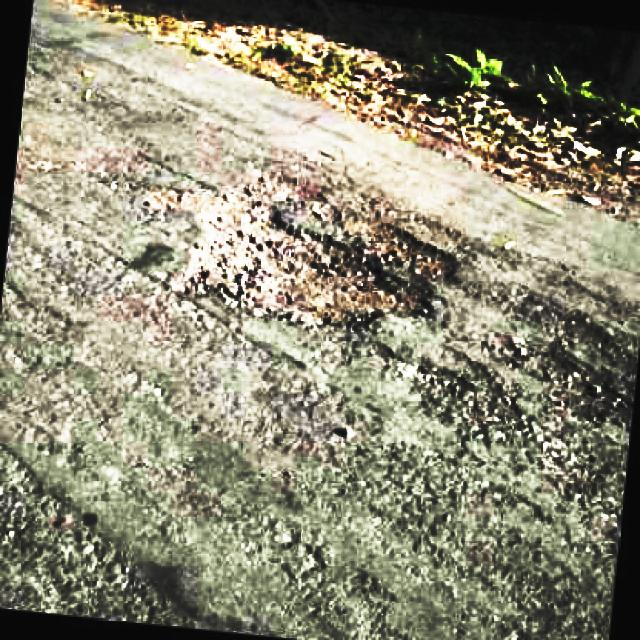pothole: (182, 165, 452, 332), (507, 309, 640, 455)
